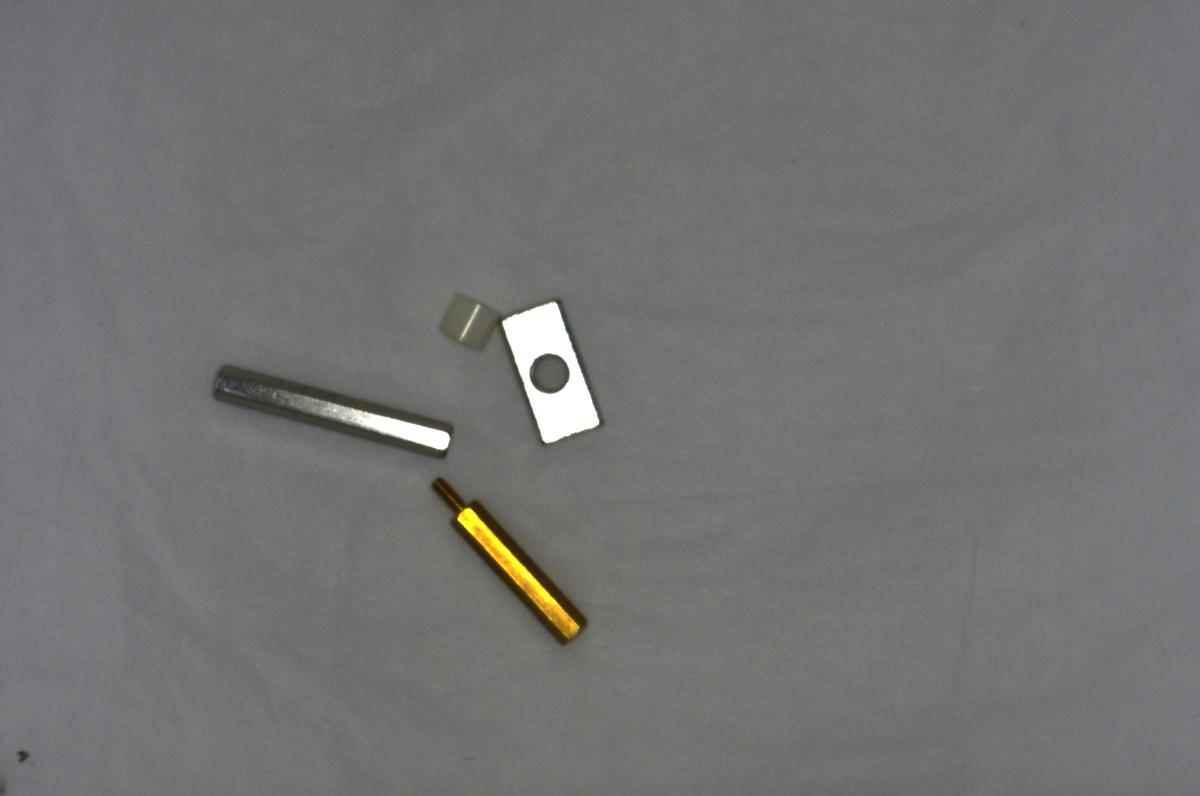Double hexagonal column: (200, 356, 457, 465)
Hexagon pillar: (430, 472, 588, 647)
Plastic cushion pillar: (440, 282, 495, 353)
Rectangular nut: (497, 292, 601, 445)
